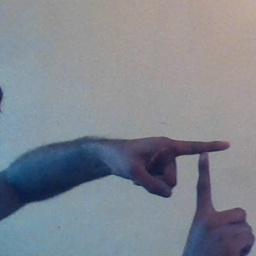T: (148, 119, 251, 245)
